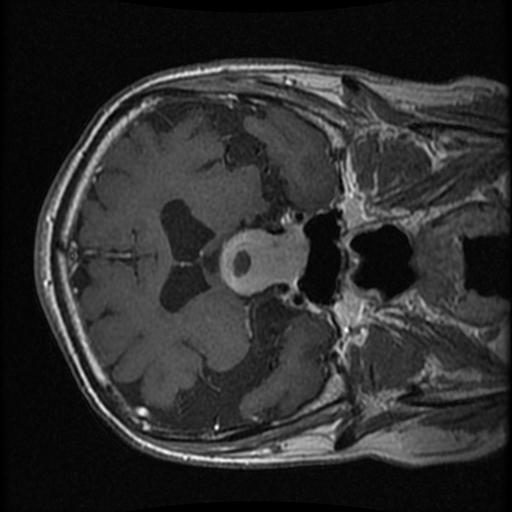pituitary tumour: (218, 218, 309, 299)
